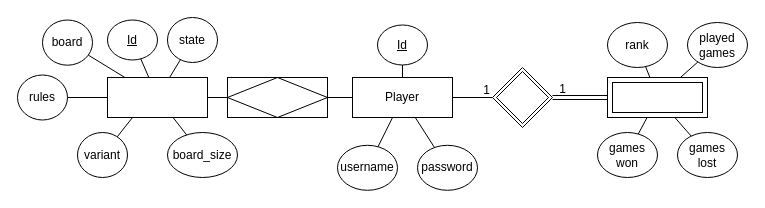
The diagram is 765 pixels wide and 208 high, and some of its shapes have lost their labels. Here are the shapes that lost their labels. From the top down, the centre of each, then its label:
At (157,97): "Game".
At (277,97): "Lobby".
At (522,97): "has".
At (657,97): "Ranking".
